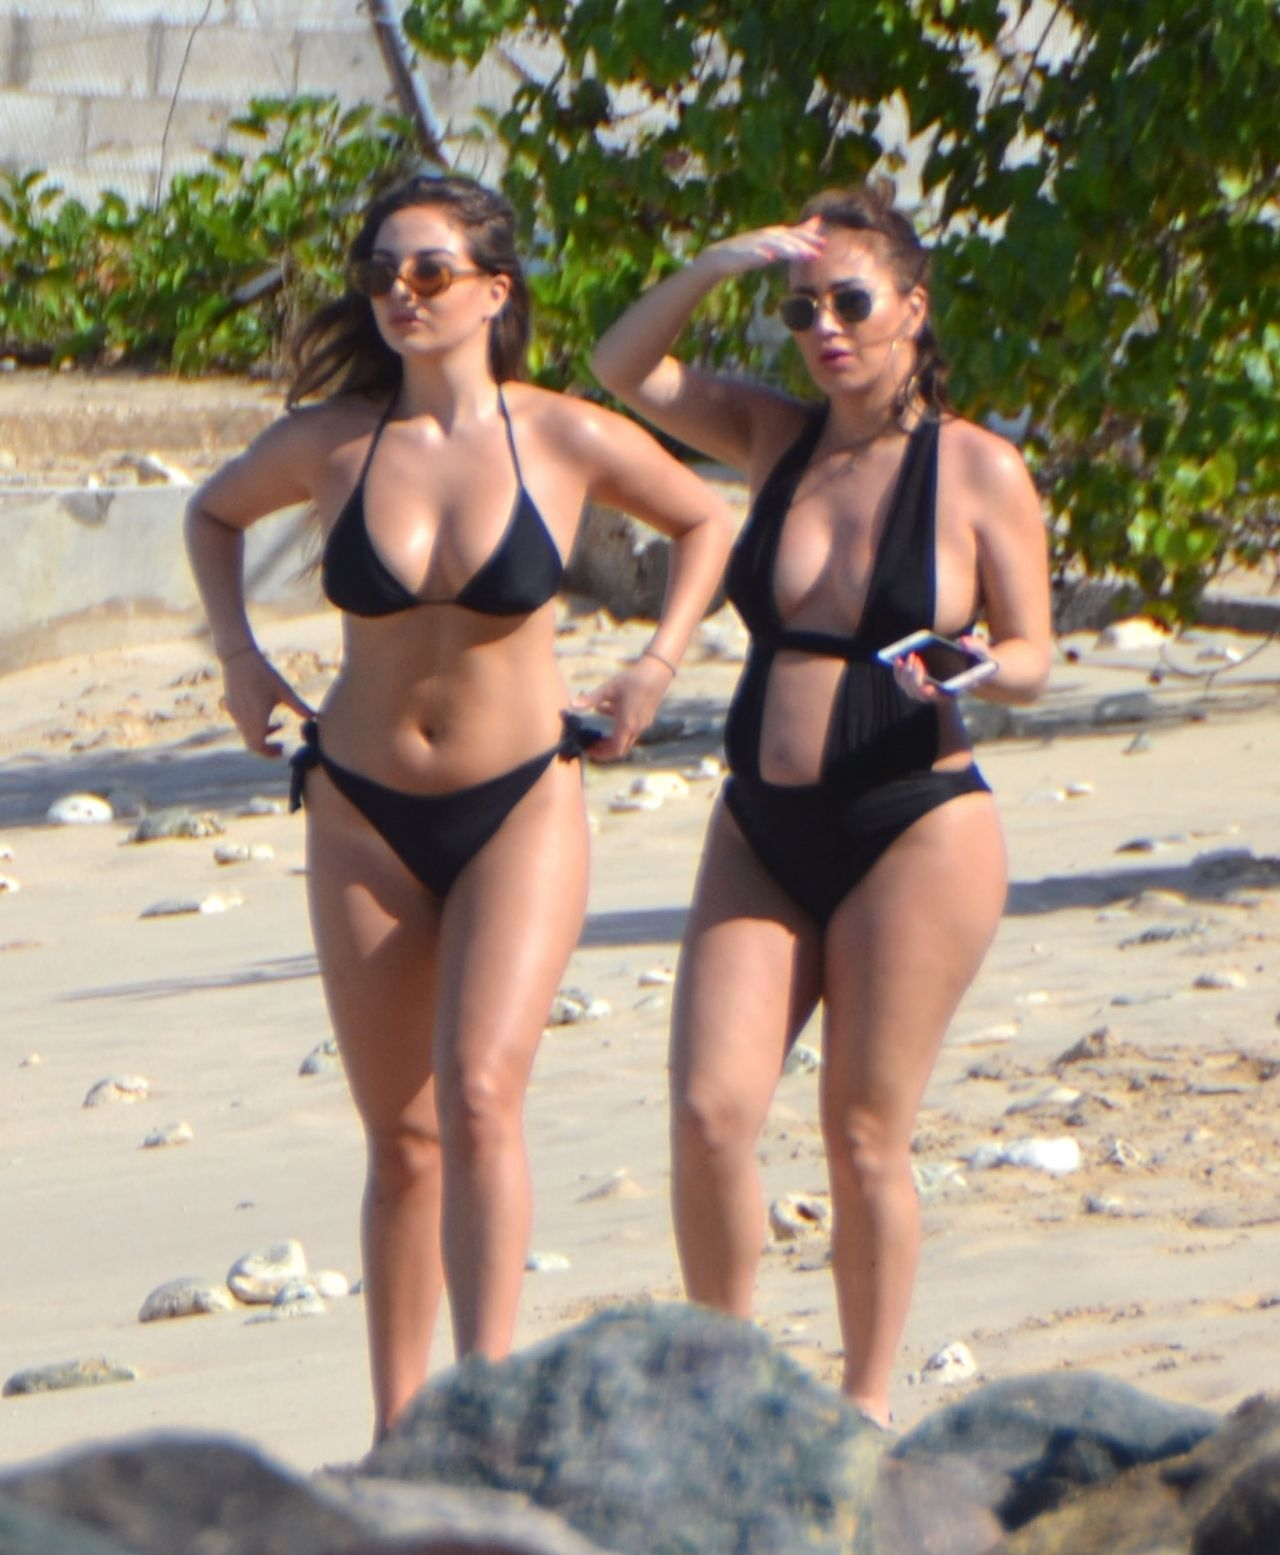Person: (146, 130, 738, 1497), (566, 170, 1033, 1515)
